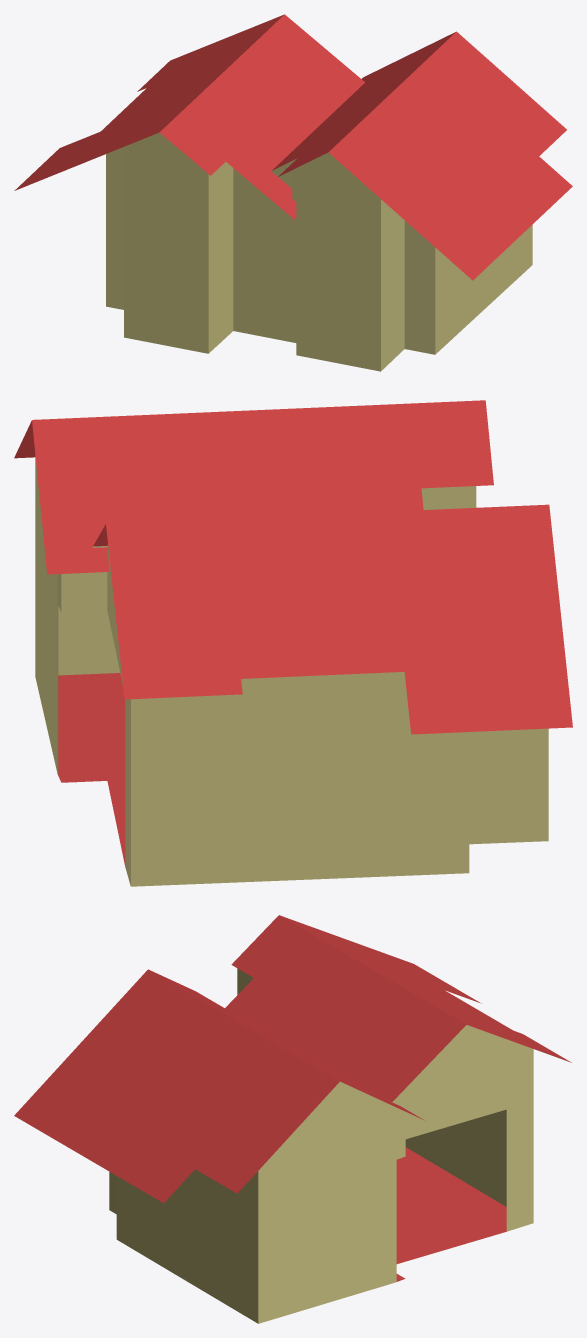
3 renders of one model, top to bottom at view 1: azimuth 30°, elevation 25°; view 2: azimuth 150°, elevation 25°; view 3: azimuth 270°, elevation 25°, orthographic. The views are drawn at different scales.
Size of the model in its own units: 23.1 by 22.82 by 10.07.
